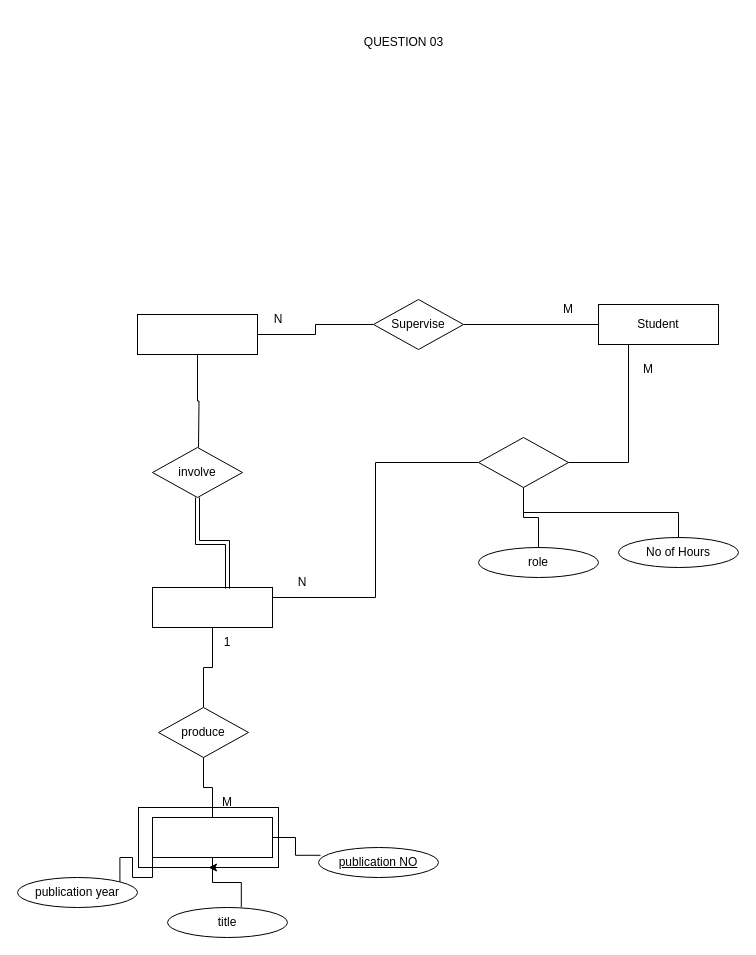
The diagram is 756 pixels wide and 955 high, and some of its shapes have lost their labels. The box of each missing label's shape, as (x1, y1, x2, y2) in pixels:
participate: (478, 436, 568, 488)
Professor: (136, 314, 258, 354)
Project: (152, 586, 272, 628)
publication: (152, 816, 272, 858)
